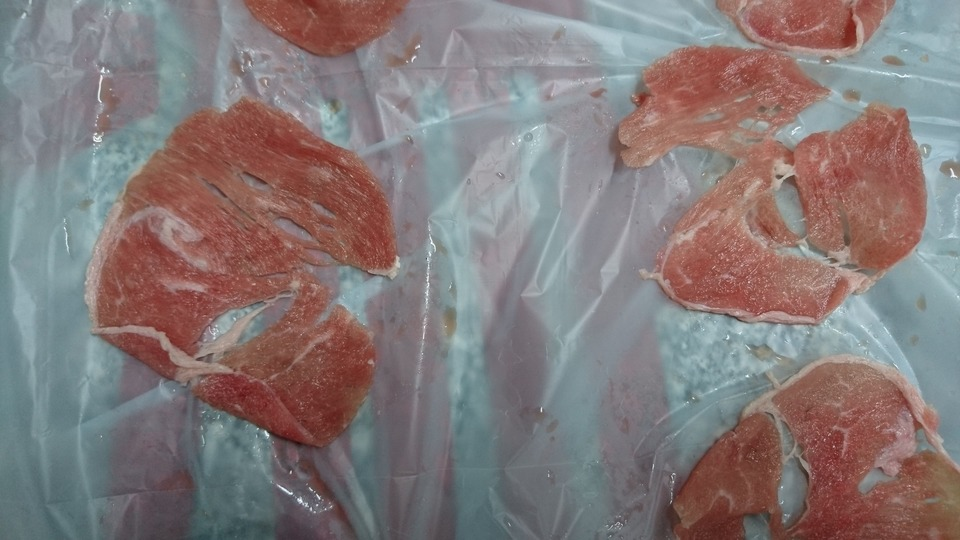restructured meat: (104, 78, 386, 453), (616, 42, 927, 339), (679, 336, 951, 540), (734, 1, 899, 55), (242, 4, 403, 58)
